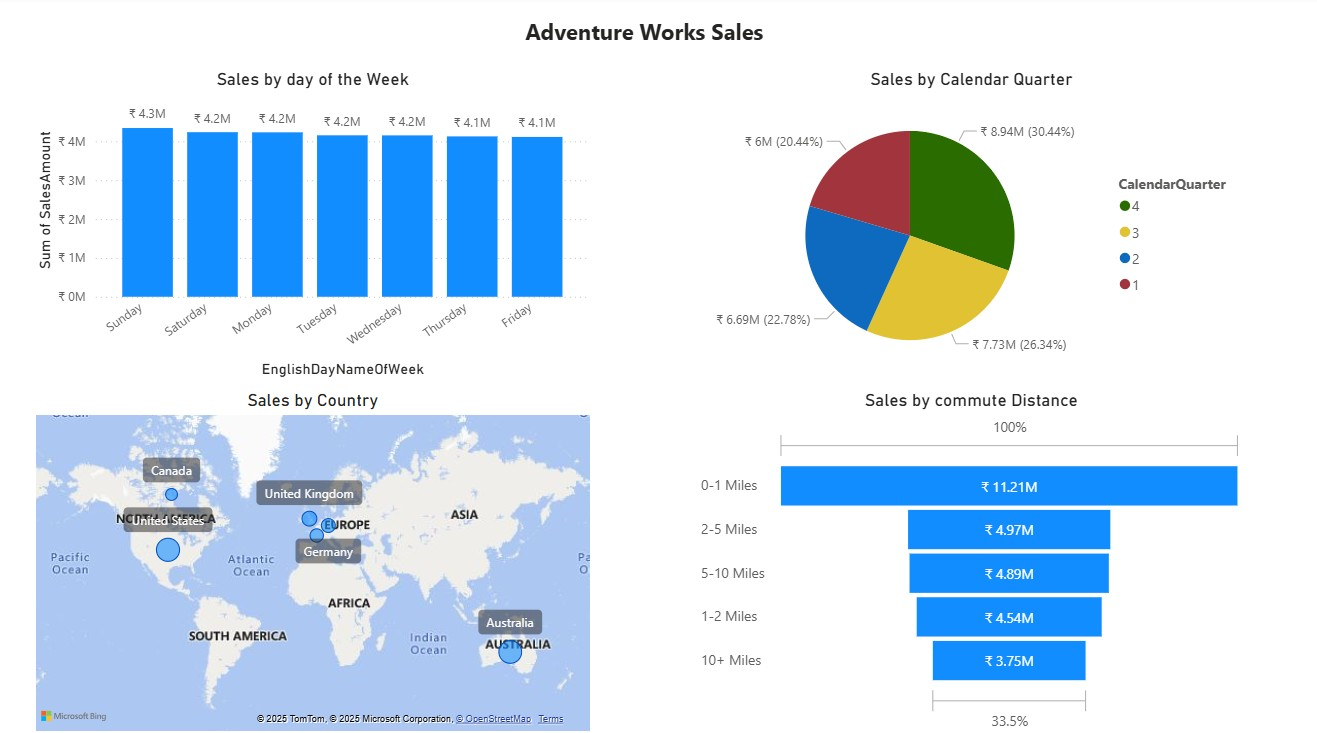

Layout of this report page (visuals, bound fields, positions):
{"tool":"powerbi","page":{"name":"Adventure Works Sales","canvas":[1280,720],"ordinal":0},"visuals":[{"type":"clusteredColumnChart","title":"Sales by day of the Week","fields":{"Category":["DimDate.EnglishDayNameOfWeek"],"Y":["Sum(FactInternetSales.SalesAmount)"]},"box":[32.4,71.2,546.9,304.2],"z":0},{"type":"pieChart","title":"Sales by Calendar Quarter","fields":{"Category":["DimDate.CalendarQuarter"],"Y":["Sum(FactInternetSales.SalesAmount)"]},"box":[676.3,71.2,535.6,304.2],"z":1000},{"type":"map","title":"Sales by Country","fields":{"Category":["DimSalesTerritory.SalesTerritoryCountry"],"Size":["Sum(FactInternetSales.SalesAmount)"]},"box":[32.4,383.5,546.9,336.5],"z":2000},{"type":"funnel","title":"Sales by commute Distance","fields":{"Category":["DimCustomer.CommuteDistance"],"Y":["Sum(FactInternetSales.SalesAmount)"]},"box":[676.3,383.5,535.6,336.5],"z":3000},{"type":"textbox","box":[477.3,14.6,299.3,56.6],"z":4000}]}

Visuals, with their boxes in screenshot pixels (x1, y1, x2, y2), scaled from the page's 1280x720 canvas onto the 1317x733 screenshot:
"Sales by day of the Week" clusteredColumnChart: <box>33,72,596,382</box>
"Sales by Calendar Quarter" pieChart: <box>696,72,1247,382</box>
"Sales by Country" map: <box>33,390,596,732</box>
"Sales by commute Distance" funnel: <box>696,390,1247,732</box>
textbox: <box>491,15,799,72</box>
